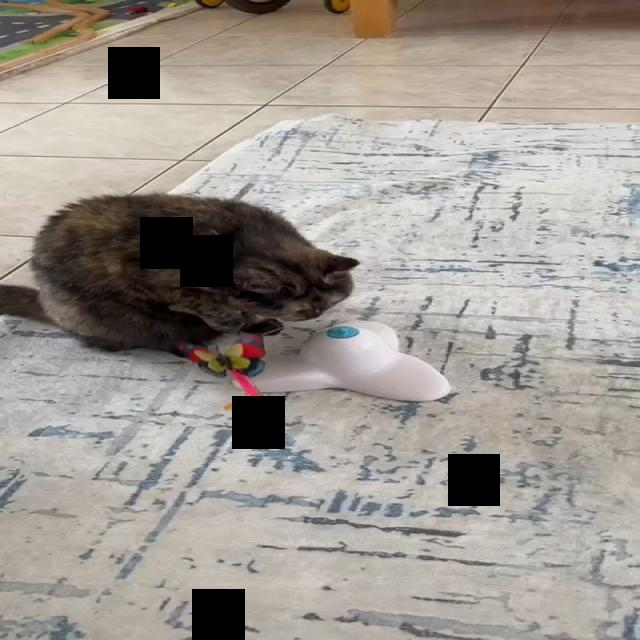authorized: (0, 191, 360, 355)
